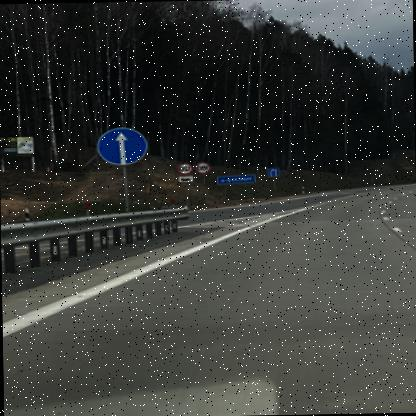speedlimit: (180, 162, 194, 172), (200, 160, 212, 171)
